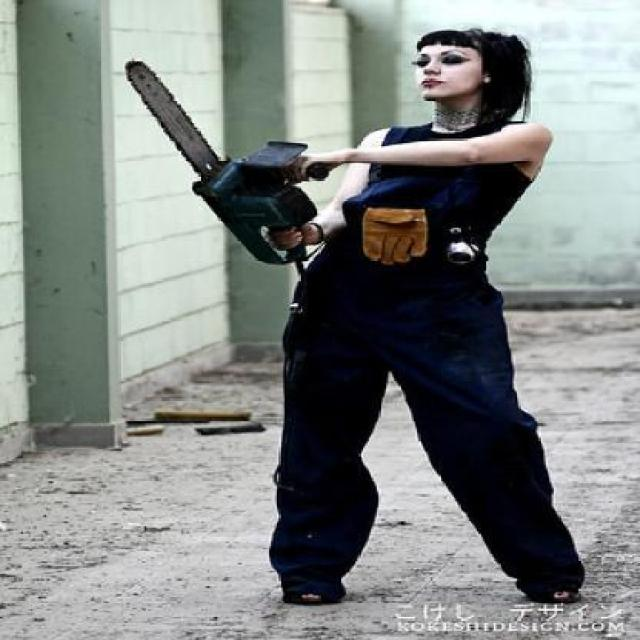Chainsaw: (118, 53, 319, 272)
